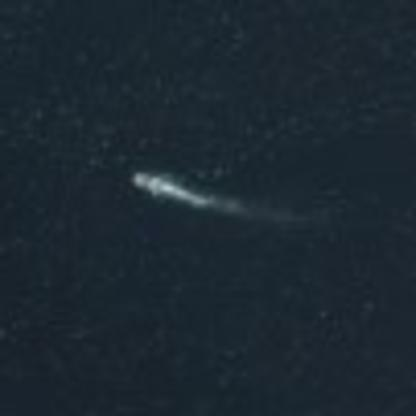ship: (120, 163, 187, 207)
